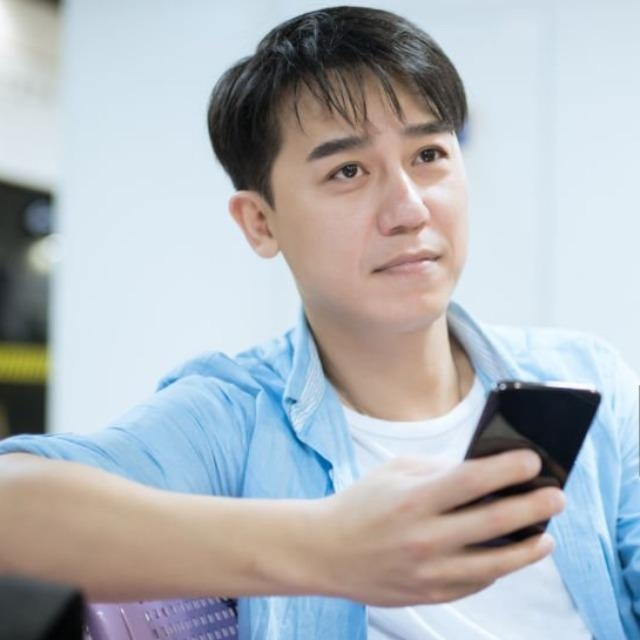Sin_Casco_Mascarrilla: (204, 8, 473, 328)
